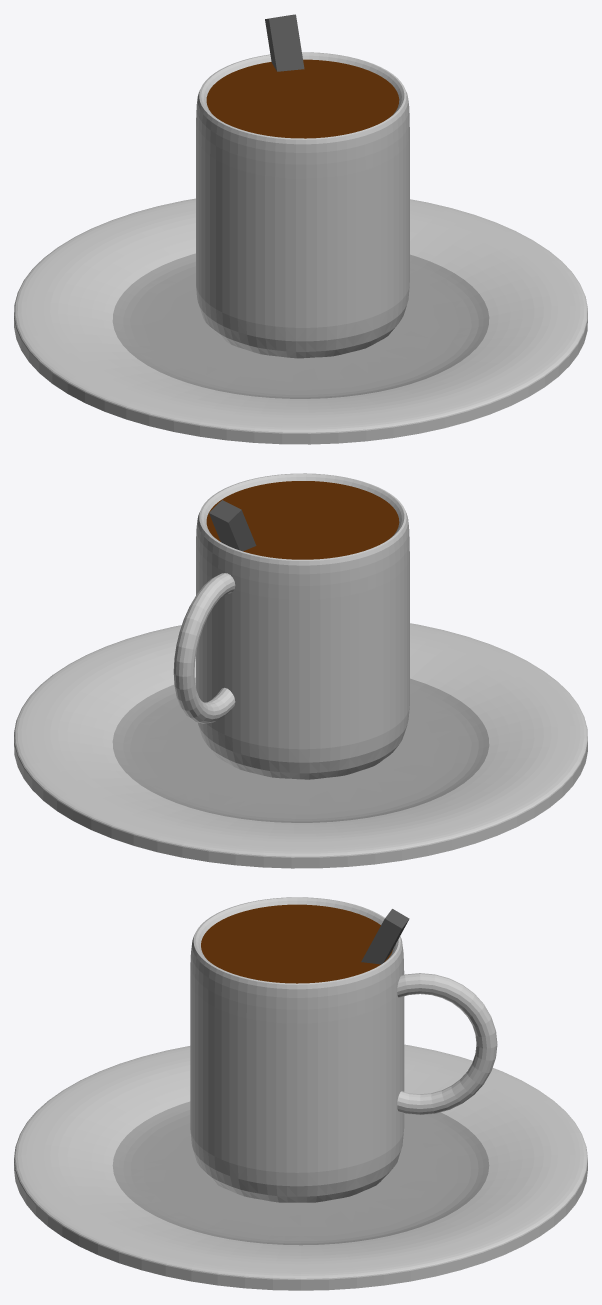
File: Coffe.fbx
3 views of the same model, one above another, from view 1: azimuth 30°, elevation 25°; view 2: azimuth 150°, elevation 25°; view 3: azimuth 270°, elevation 25° (orthographic).
Parts seen in each view (by area): view 1: Тарелка, Кружка, Кофе, Ложка; view 2: Тарелка, Кружка, Кофе, Ручка, Ложка; view 3: Тарелка, Кружка, Кофе, Ручка, Ложка.
Part boxes in pixels (bbox=[...]): Тарелка: bbox=[14, 198, 587, 444]; Кружка: bbox=[196, 52, 409, 358]; Кофе: bbox=[206, 59, 399, 138]; Ложка: bbox=[265, 14, 304, 71]; Тарелка: bbox=[14, 623, 587, 868]; Кружка: bbox=[196, 473, 409, 780]; Кофе: bbox=[206, 481, 399, 559]; Ручка: bbox=[173, 573, 235, 723]; Ложка: bbox=[209, 500, 256, 551]; Тарелка: bbox=[14, 1044, 587, 1290]; Кружка: bbox=[190, 897, 404, 1203]; Кофе: bbox=[201, 904, 392, 983]; Ручка: bbox=[397, 973, 497, 1114]; Ложка: bbox=[361, 909, 409, 964].
Size of the model in its own units: 1127 by 589 by 1127.
